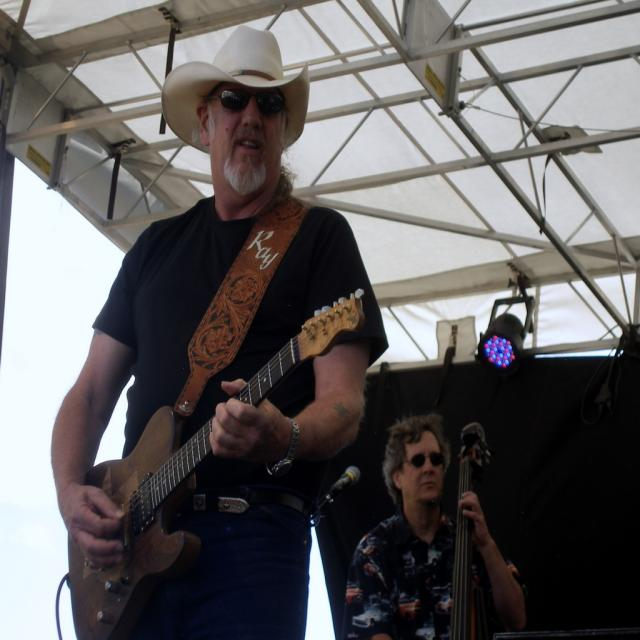Hat: (158, 22, 321, 149)
